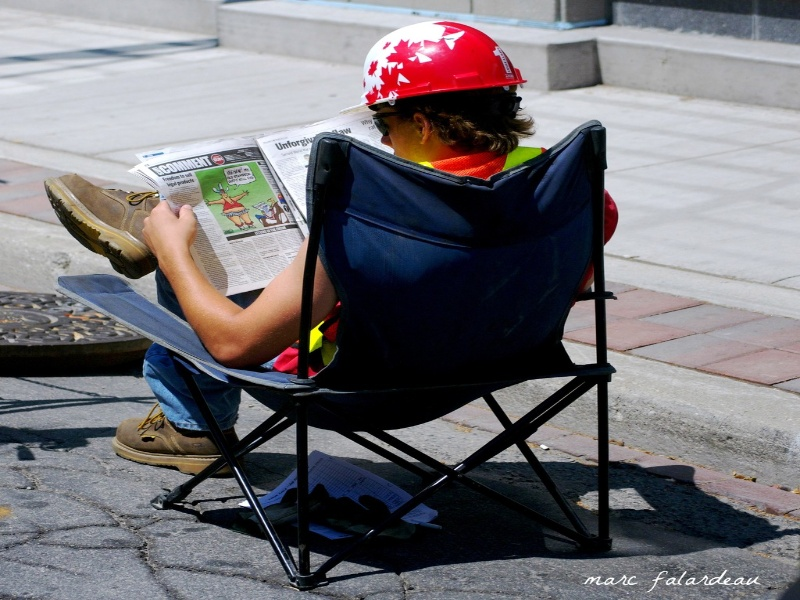baret: (343, 20, 528, 113)
